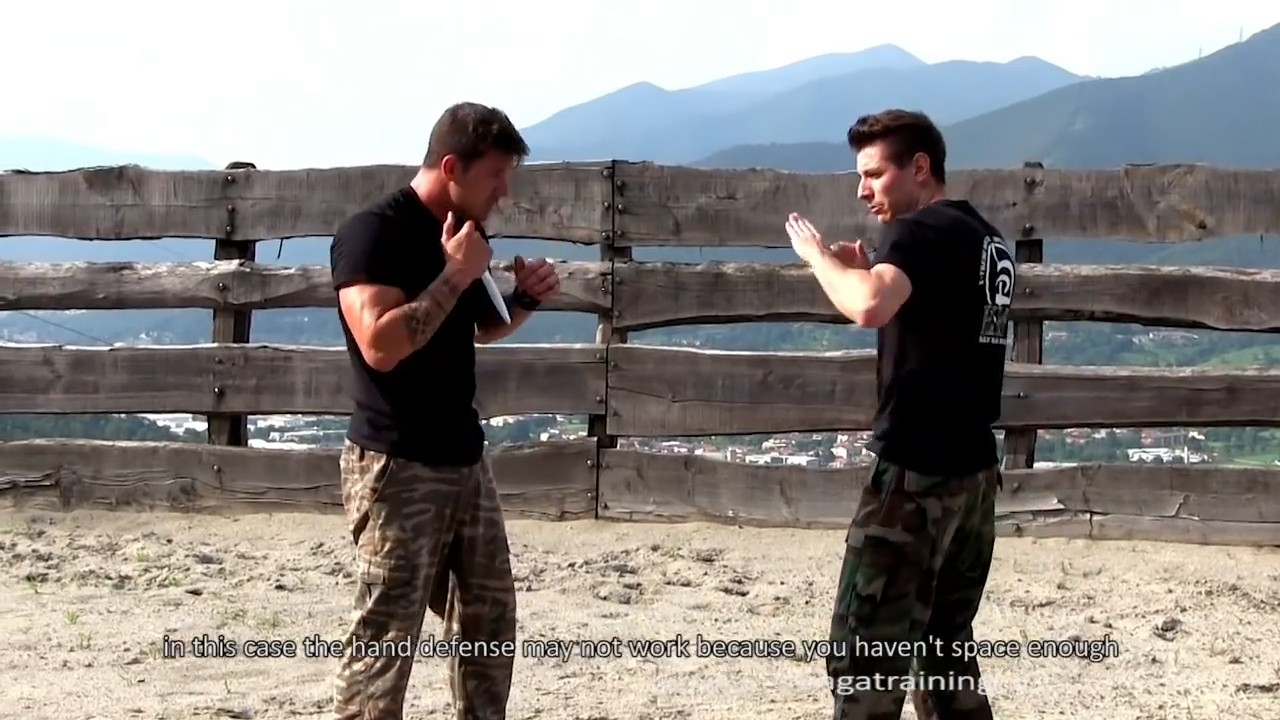knife: (441, 219, 517, 330)
